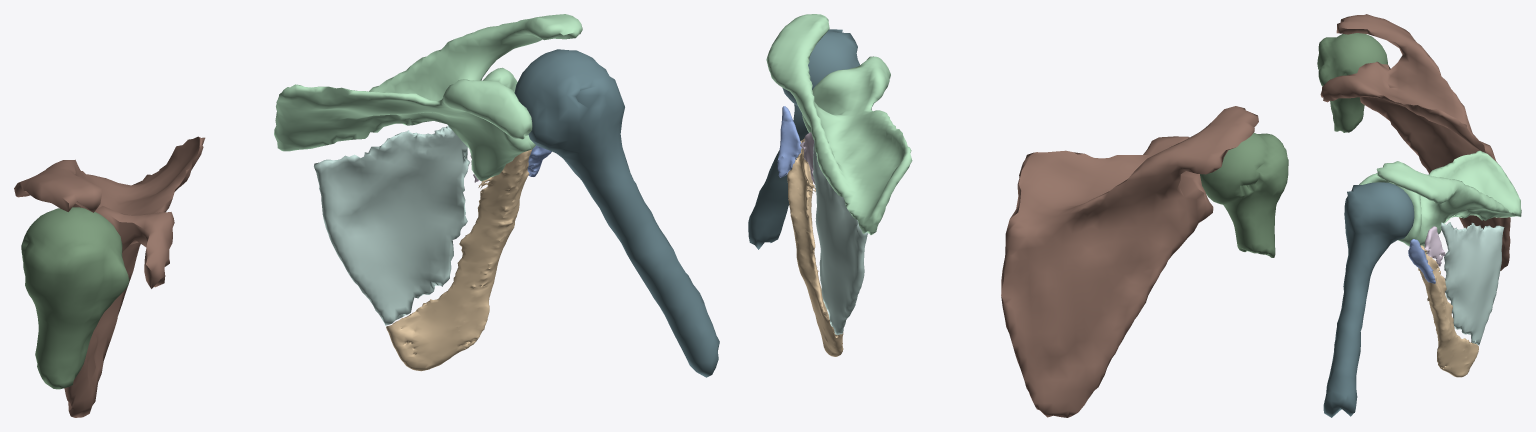
File: Scapula_Fracture_02.fbx
The picture shows the model from 3 angles, left to right: view 1: azimuth 30°, elevation 25°; view 2: azimuth 150°, elevation 25°; view 3: azimuth 270°, elevation 25°; orthographic projection. The views are drawn at different scales.
Parts seen in each view (by area): view 1: SM_LeftScapula_GlenoidFrag, SM_LeftScapula_Fossa, SM_LeftHumerus, SM_RightHumerus, SM_RightScapula, SM_LeftScapula_LateralBorderFrag_Inferior; view 2: SM_RightScapula, SM_LeftScapula_GlenoidFrag, SM_RightHumerus, SM_LeftScapula_Fossa, SM_LeftHumerus, SM_LeftScapula_LateralBorderFrag_Inferior, SM_LeftScapula_LateralBorderFrag_Superior; view 3: SM_RightScapula, SM_LeftHumerus, SM_LeftScapula_GlenoidFrag, SM_LeftScapula_Fossa, SM_RightHumerus, SM_LeftScapula_LateralBorderFrag_Inferior, SM_LeftScapula_LateralBorderFrag_Superior, SM_LeftScapFrag_Fossa_Superolateral.
Part boxes in pixels (box(x1,y1,x2,y2)): SM_LeftScapula_GlenoidFrag: box(274, 14, 582, 181); SM_LeftScapula_Fossa: box(314, 125, 470, 325); SM_LeftHumerus: box(514, 49, 719, 377); SM_RightHumerus: box(21, 207, 129, 389); SM_RightScapula: box(14, 136, 205, 417); SM_LeftScapula_LateralBorderFrag_Inferior: box(386, 149, 532, 371); SM_RightScapula: box(1001, 106, 1258, 417); SM_LeftScapula_GlenoidFrag: box(766, 14, 912, 234); SM_RightHumerus: box(1200, 133, 1288, 257); SM_LeftScapula_Fossa: box(812, 141, 868, 334); SM_LeftHumerus: box(748, 29, 859, 249); SM_LeftScapula_LateralBorderFrag_Inferior: box(787, 138, 843, 356); SM_LeftScapula_LateralBorderFrag_Superior: box(777, 106, 801, 177); SM_RightScapula: box(1320, 14, 1510, 270); SM_LeftHumerus: box(1323, 182, 1414, 417); SM_LeftScapula_GlenoidFrag: box(1359, 150, 1521, 253); SM_LeftScapula_Fossa: box(1441, 222, 1504, 345); SM_RightHumerus: box(1317, 33, 1387, 132); SM_LeftScapula_LateralBorderFrag_Inferior: box(1418, 245, 1478, 377); SM_LeftScapula_LateralBorderFrag_Superior: box(1408, 239, 1435, 283); SM_LeftScapFrag_Fossa_Superolateral: box(1424, 226, 1445, 266).
Bounding box in the file's own units: 50.39 × 26.24 × 20.59.
